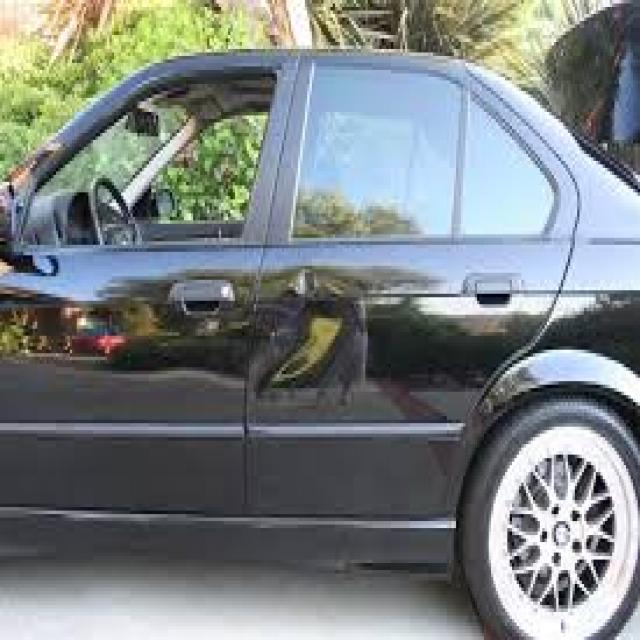minor: (238, 268, 424, 400)
